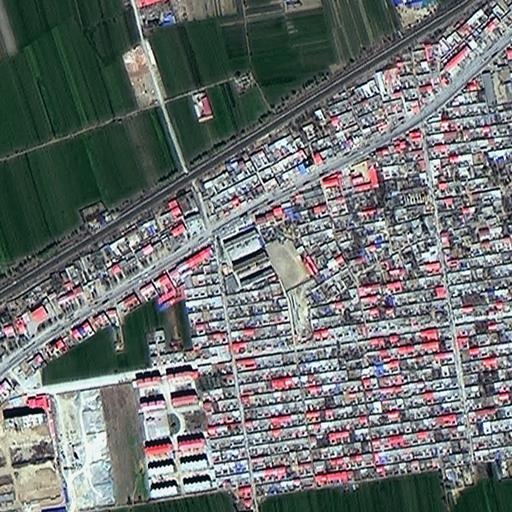school: (217, 224, 308, 291)
